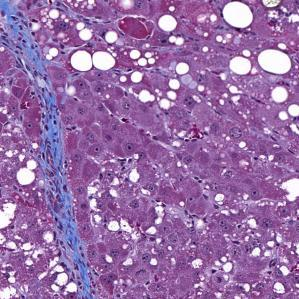fibrosis: (16, 32, 63, 133), (42, 168, 89, 265)
